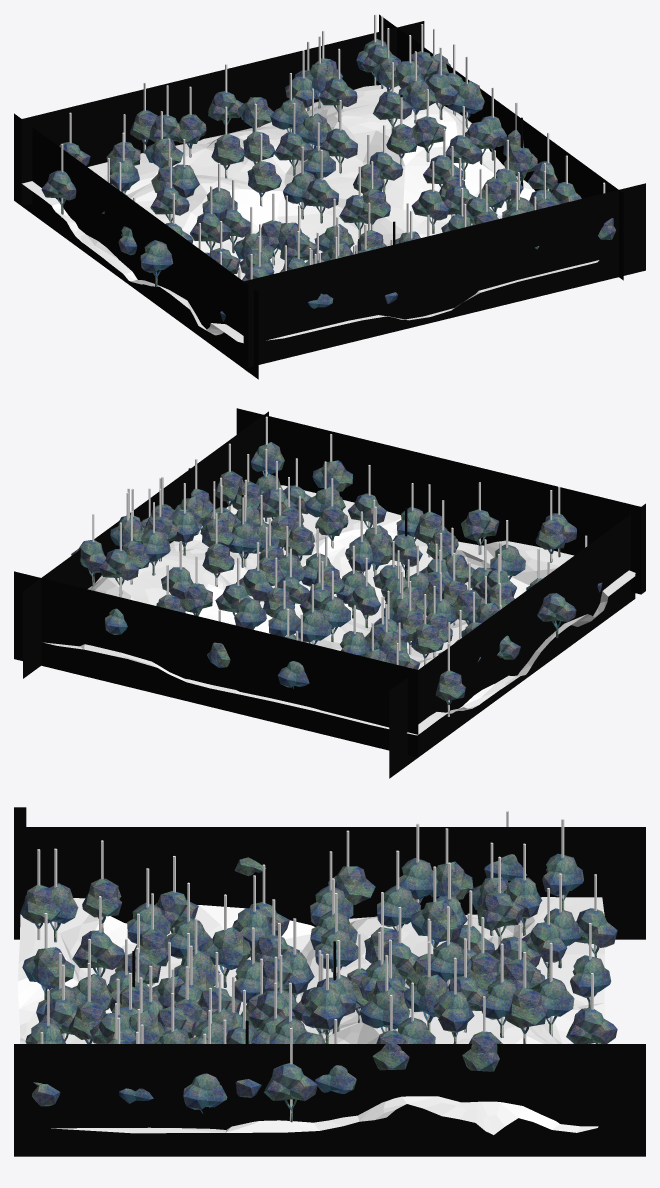
File: environment2.fbx
The picture shows the model from 3 angles, top to bottom: view 1: azimuth 30°, elevation 25°; view 2: azimuth 150°, elevation 25°; view 3: azimuth 270°, elevation 25°; orthographic projection. The views are drawn at different scales.
Parts seen in each view (by area): view 1: environment:proxy, tree-blue.011, tree-white.008, tree-pink.031, tree-white.010, tree-pink.036, tree-blue.042, tree-white.035, tree-pink.050, tree-pink.039, tree-white.011, tree-white.040 (+39 smaller); view 2: environment:proxy, tree-white.020, tree-white.038, tree-blue.011, tree-white.029, tree-white.011, tree-blue.051, tree-blue.043, tree-blue.045, tree-pink.036, tree-pink.044, tree-pink.014 (+32 smaller); view 3: environment:proxy, tree-white.036, tree-white.003, tree-white.026, tree-white.020, tree-white.033, tree-white.040, tree-blue.022, tree-blue.031, tree-white.018, tree-white.038, tree-pink.022 (+59 smaller).
Boxes of the visible parts, bbox=[...] form: environment:proxy: bbox=[14, 14, 645, 379]; tree-blue.011: bbox=[140, 240, 173, 286]; tree-white.008: bbox=[247, 161, 281, 206]; tree-pink.031: bbox=[301, 178, 338, 223]; tree-white.010: bbox=[190, 212, 229, 250]; tree-pink.036: bbox=[318, 77, 357, 121]; tree-blue.042: bbox=[373, 91, 412, 127]; tree-white.035: bbox=[447, 81, 484, 128]; tree-pink.050: bbox=[320, 128, 357, 173]; tree-pink.039: bbox=[411, 189, 448, 233]; tree-white.011: bbox=[211, 134, 244, 178]; tree-white.040: bbox=[412, 116, 446, 161]; environment:proxy: bbox=[14, 408, 645, 778]; tree-white.020: bbox=[461, 509, 499, 554]; tree-white.038: bbox=[99, 549, 138, 594]; tree-blue.011: bbox=[537, 593, 576, 637]; tree-white.029: bbox=[312, 460, 352, 491]; tree-white.011: bbox=[295, 609, 331, 644]; tree-blue.051: bbox=[346, 584, 380, 628]; tree-blue.043: bbox=[226, 521, 260, 567]; tree-blue.045: bbox=[315, 506, 348, 548]; tree-pink.036: bbox=[202, 543, 234, 586]; tree-pink.044: bbox=[234, 597, 266, 629]; tree-pink.014: bbox=[411, 624, 443, 665]; environment:proxy: bbox=[14, 807, 645, 1156]; tree-white.036: bbox=[264, 1063, 317, 1122]; tree-white.003: bbox=[199, 927, 251, 987]; tree-white.026: bbox=[72, 930, 124, 977]; tree-white.020: bbox=[22, 947, 74, 999]; tree-white.033: bbox=[359, 987, 409, 1032]; tree-white.040: bbox=[304, 987, 347, 1043]; tree-blue.022: bbox=[477, 891, 524, 942]; tree-blue.031: bbox=[566, 1007, 617, 1043]; tree-white.018: bbox=[411, 900, 462, 954]; tree-white.038: bbox=[504, 987, 547, 1043]; tree-pink.022: bbox=[542, 853, 583, 909].
Bounding box in the file's own units: 12064 × 4373 × 12145.
3 materials, 3 textured.
